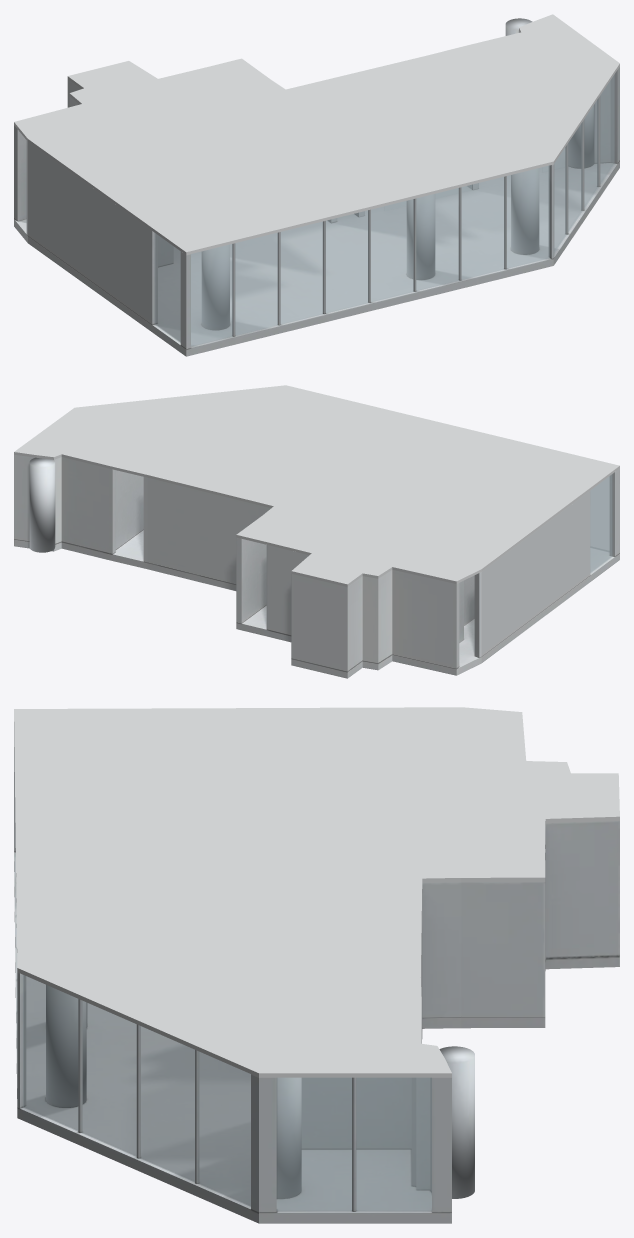
File: dollhouse.glb
The picture shows the model from 3 angles, top to bottom: view 1: azimuth 30°, elevation 25°; view 2: azimuth 150°, elevation 25°; view 3: azimuth 270°, elevation 25°; orthographic projection. The views are drawn at different scales.
Visible parts, largest first — view 1: ceiling, glazing_facade, floor, walls, columns, mullions; view 2: ceiling, walls, floor, columns, glazing_facade; view 3: ceiling, glazing_facade, walls, floor, columns, mullions.
Boxes of the visible parts, x1,y1,x2,y2 form: ceiling: (14,14,619,255); glazing_facade: (154,74,614,346); floor: (14,149,619,356); walls: (14,31,619,349); columns: (201,18,593,330); mullions: (232,96,600,336); ceiling: (14,385,619,586); walls: (14,454,619,671); floor: (14,530,619,678); columns: (29,457,55,552); glazing_facade: (590,474,612,572); ceiling: (14,707,619,1077); glazing_facade: (23,975,431,1210); walls: (14,726,619,1212); floor: (14,852,619,1223); columns: (46,985,474,1198); mullions: (78,999,356,1211).
Bounding box in the file's own units: 22.05 × 4.22 × 15.42.
7 materials, 4 textured.
